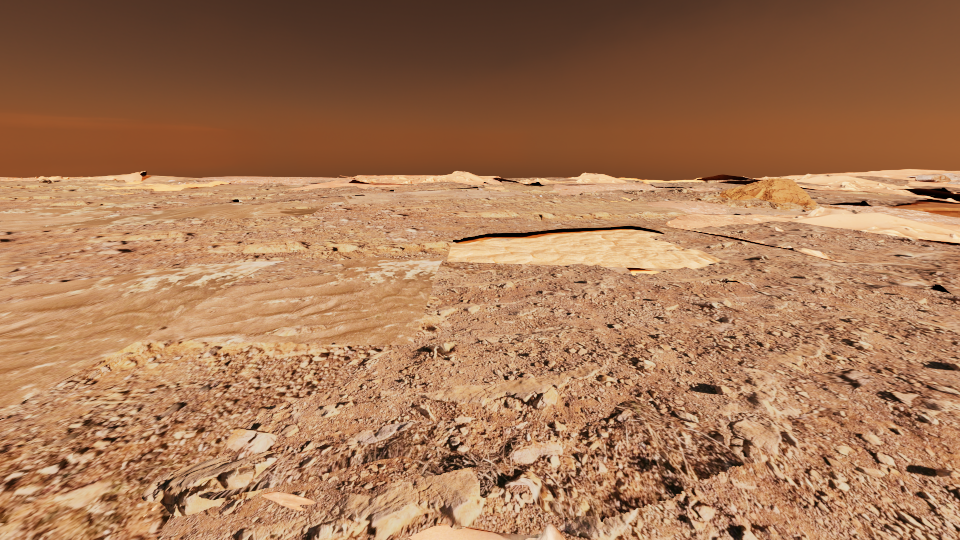bedrock: (142, 221, 959, 539), (0, 339, 385, 409), (557, 180, 939, 221), (216, 181, 568, 204), (196, 238, 452, 258), (443, 203, 686, 222), (78, 229, 260, 242), (855, 176, 959, 191), (209, 178, 339, 188), (0, 192, 129, 199), (0, 183, 129, 189), (264, 324, 326, 335), (29, 200, 128, 206), (383, 205, 450, 209), (276, 203, 325, 208), (176, 192, 251, 194), (796, 182, 830, 186), (545, 177, 576, 180), (505, 177, 536, 180), (36, 179, 55, 183), (531, 182, 554, 185), (348, 359, 358, 363), (625, 180, 644, 182)
hole: (914, 208, 959, 216)
rocks: (720, 178, 815, 205), (906, 173, 959, 184)
sand: (0, 258, 442, 405), (447, 226, 720, 274), (0, 200, 343, 230), (79, 175, 252, 190), (829, 169, 959, 187), (255, 178, 405, 189), (829, 302, 897, 318), (618, 178, 704, 183), (920, 221, 959, 231), (916, 198, 953, 202), (480, 176, 501, 183), (355, 175, 392, 178), (0, 267, 17, 273), (394, 175, 428, 178), (456, 181, 486, 184), (0, 277, 11, 283), (788, 320, 803, 324), (486, 187, 504, 189)
soil: (0, 184, 884, 291), (0, 344, 404, 539), (0, 190, 289, 216), (434, 257, 522, 280), (409, 523, 524, 539), (801, 185, 907, 200), (854, 183, 945, 200), (156, 176, 344, 184), (262, 492, 314, 509), (0, 177, 126, 184), (359, 185, 468, 193), (889, 201, 959, 209), (563, 180, 653, 186), (280, 197, 347, 205), (349, 176, 424, 183), (696, 176, 757, 184), (919, 233, 959, 245), (787, 248, 828, 259), (923, 213, 959, 224), (0, 295, 42, 303), (414, 332, 442, 339), (524, 264, 563, 268), (297, 193, 326, 197), (397, 195, 416, 198), (219, 183, 263, 184)
